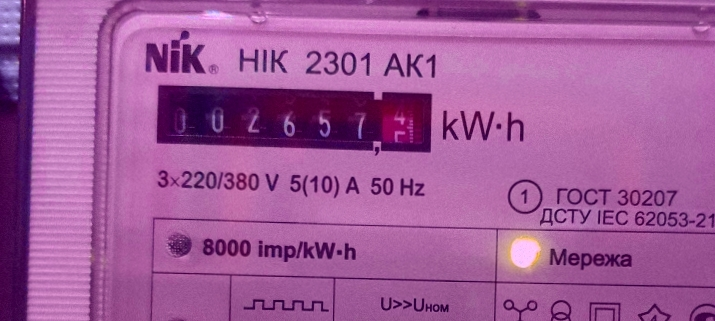0: (171, 105, 188, 134), (209, 104, 225, 134)
2: (245, 105, 261, 134)
4: (392, 99, 407, 125)
5: (316, 108, 333, 138), (392, 129, 407, 143)
6: (281, 108, 296, 137)
7: (353, 109, 367, 140)
screen: (147, 74, 443, 164)
